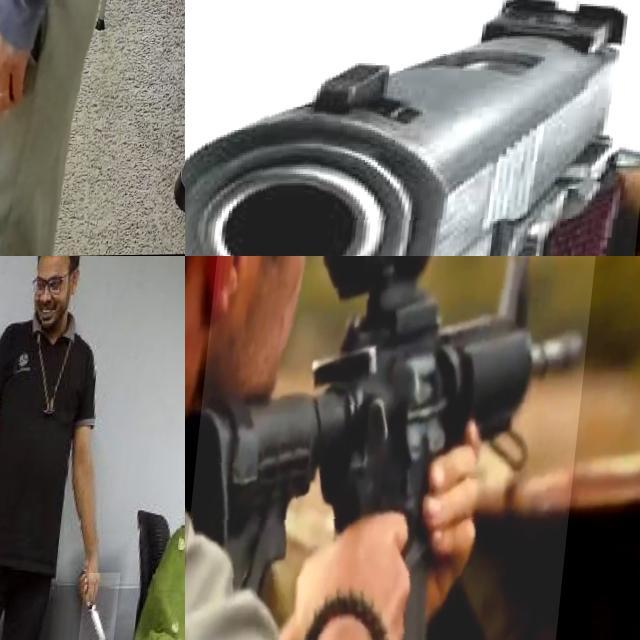-: (90, 573, 132, 640)
gun-knife-thesis - v11 Yolov5 augmented: (185, 256, 605, 640), (185, 0, 640, 256), (0, 0, 58, 81)
